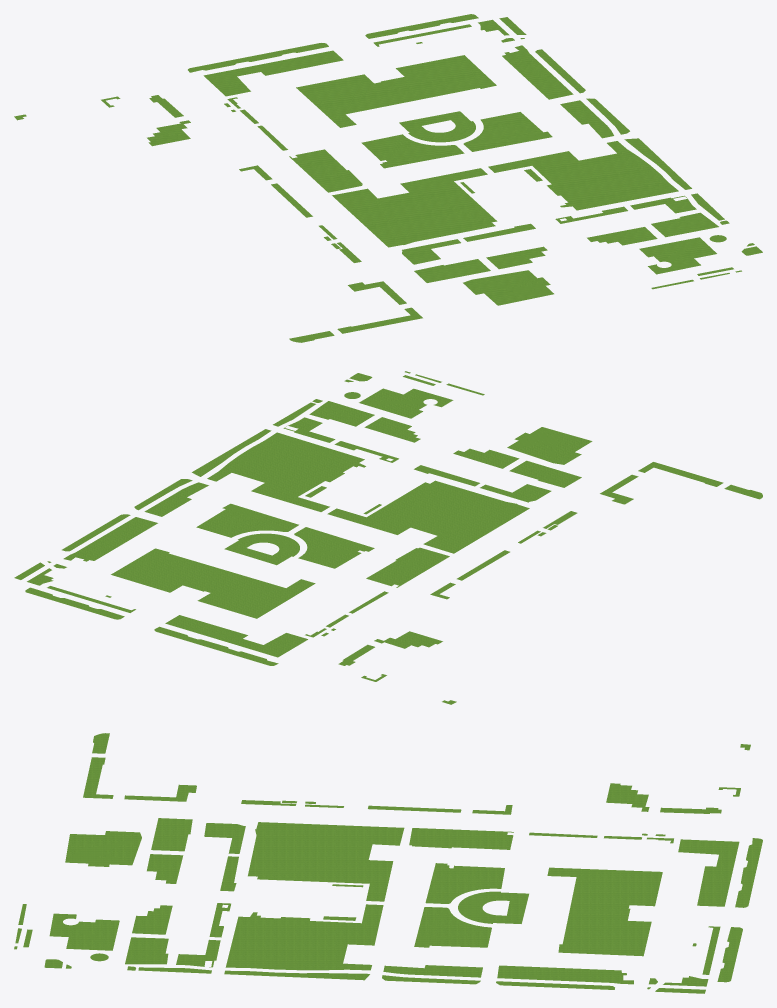
The picture shows the model from 3 angles, top to bottom: view 1: azimuth 30°, elevation 25°; view 2: azimuth 150°, elevation 25°; view 3: azimuth 270°, elevation 25°; orthographic projection. The views are drawn at different scales.
Parts seen in each view (by area): view 1: Building Footprint (×22); view 2: Building Footprint (×21); view 3: Building Footprint (×27).
Boxes of the visible parts, <box> form: Building Footprint (×22): <box>147,14,718,333</box>; Building Footprint (×21): <box>25,388,592,665</box>; Building Footprint (×27): <box>49,757,762,989</box>.
Size of the model in its own units: 202 by 1.5e-14 by 245.
1 material, 1 textured.
